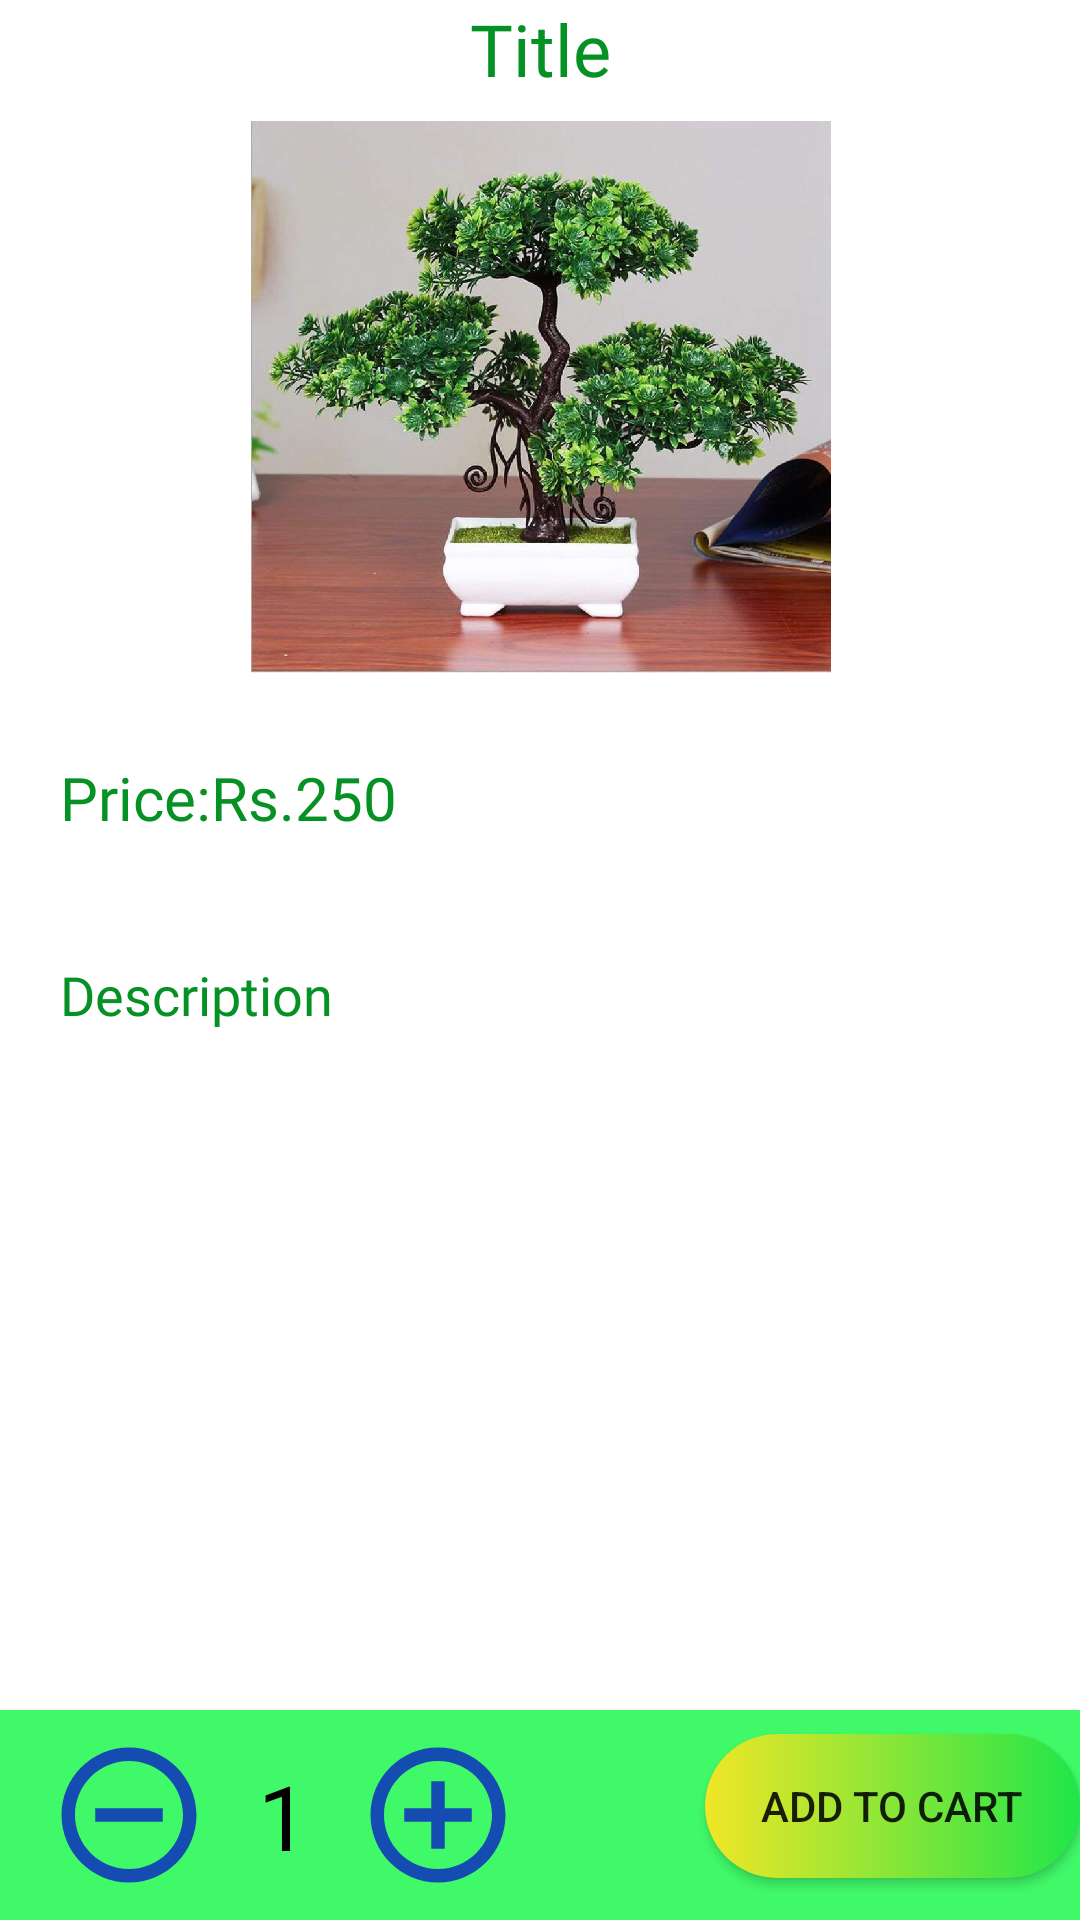

Point at icon controls on the screen. Image size 1080px×1920px, points as [x,y].
add circle: [438,1815]
remove circle: [129,1815]
